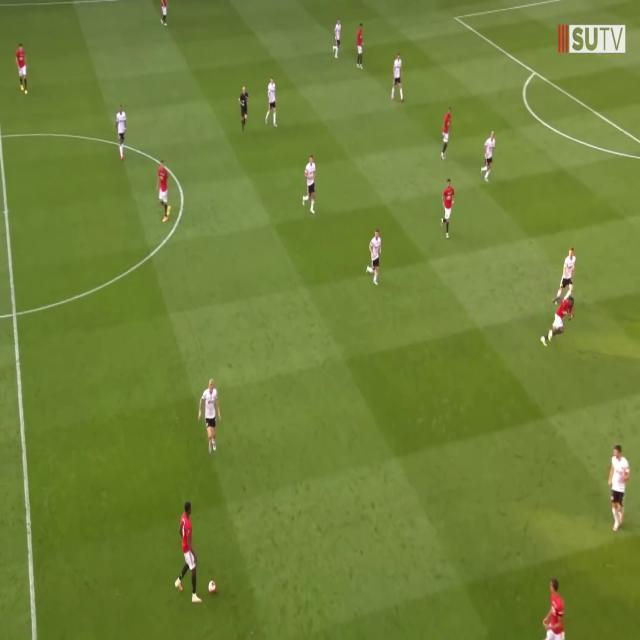ball: (206, 576, 217, 597)
team1: (174, 499, 201, 605), (540, 295, 574, 346), (540, 580, 568, 640), (156, 160, 173, 224), (441, 180, 457, 238), (16, 41, 30, 95), (440, 107, 453, 162), (356, 23, 367, 70), (160, 1, 169, 28)
team2: (606, 444, 634, 536), (199, 378, 224, 458), (558, 247, 578, 300), (113, 105, 131, 162), (366, 232, 384, 288), (302, 156, 318, 216), (482, 132, 498, 186), (392, 51, 406, 103), (264, 78, 278, 128), (332, 19, 343, 63)
